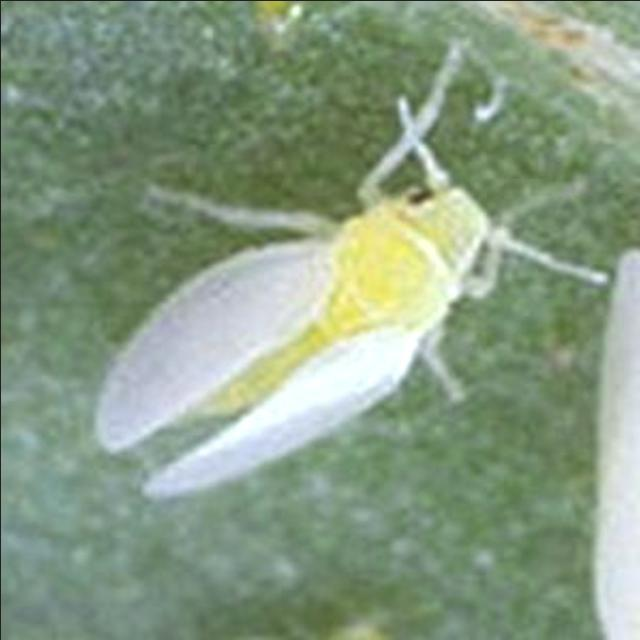Silverleaf whitefly: (77, 69, 597, 518)
